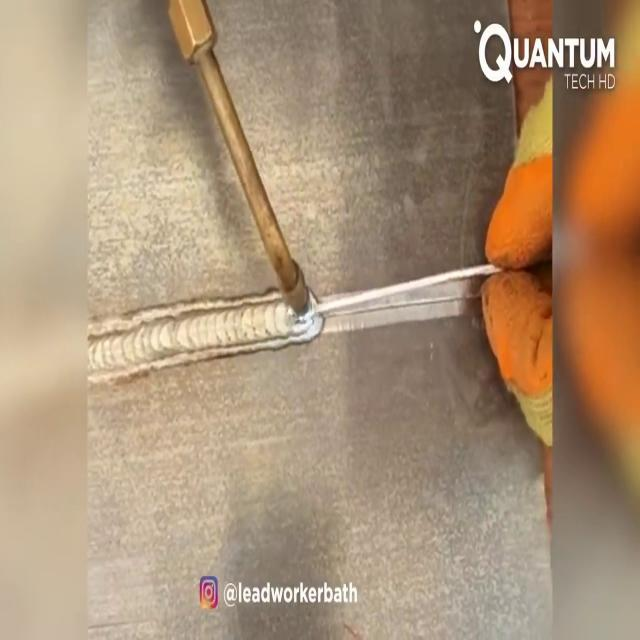Good Weld: (88, 300, 282, 372)
